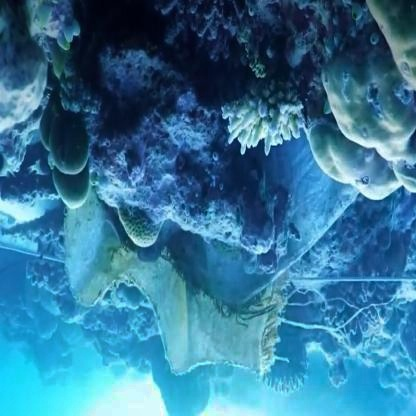plastic: (71, 227, 311, 377)
